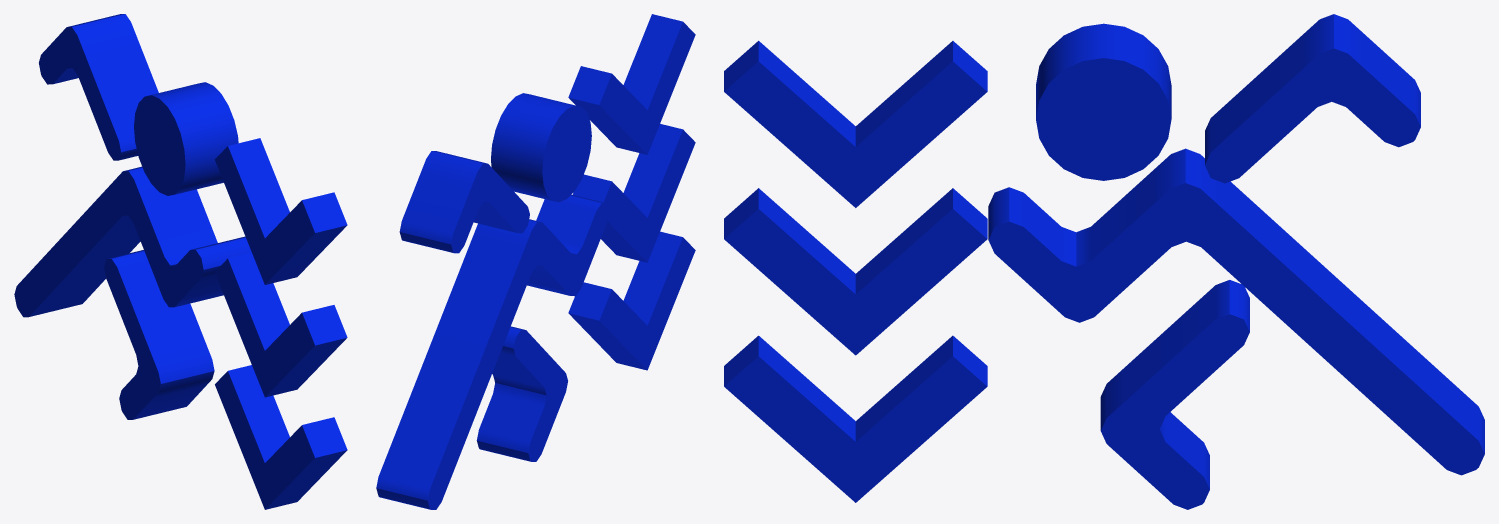
The model's file is SPEED_DOWN_PASSIVE.fbx.
3 views of the same model, side by side, from view 1: azimuth 30°, elevation 25°; view 2: azimuth 150°, elevation 25°; view 3: azimuth 270°, elevation 25° (orthographic). The views are drawn at different scales.
Visible parts, largest first — view 1: Icon_Slower3; view 2: Icon_Slower3; view 3: Icon_Slower3.
Part boxes in pixels (x1,y1,x2,y2): Icon_Slower3: (14, 14, 347, 509); Icon_Slower3: (376, 14, 695, 509); Icon_Slower3: (724, 14, 1484, 509).
Bounding box in the file's own units: 1 × 6.26 × 9.36.
